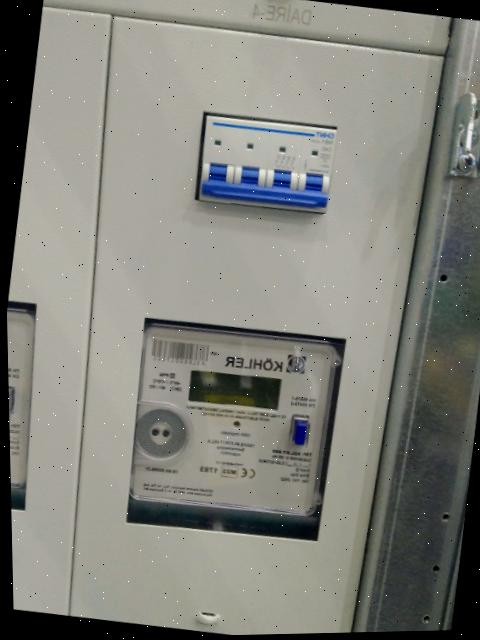electric-meter-detection: (129, 323, 341, 535)
